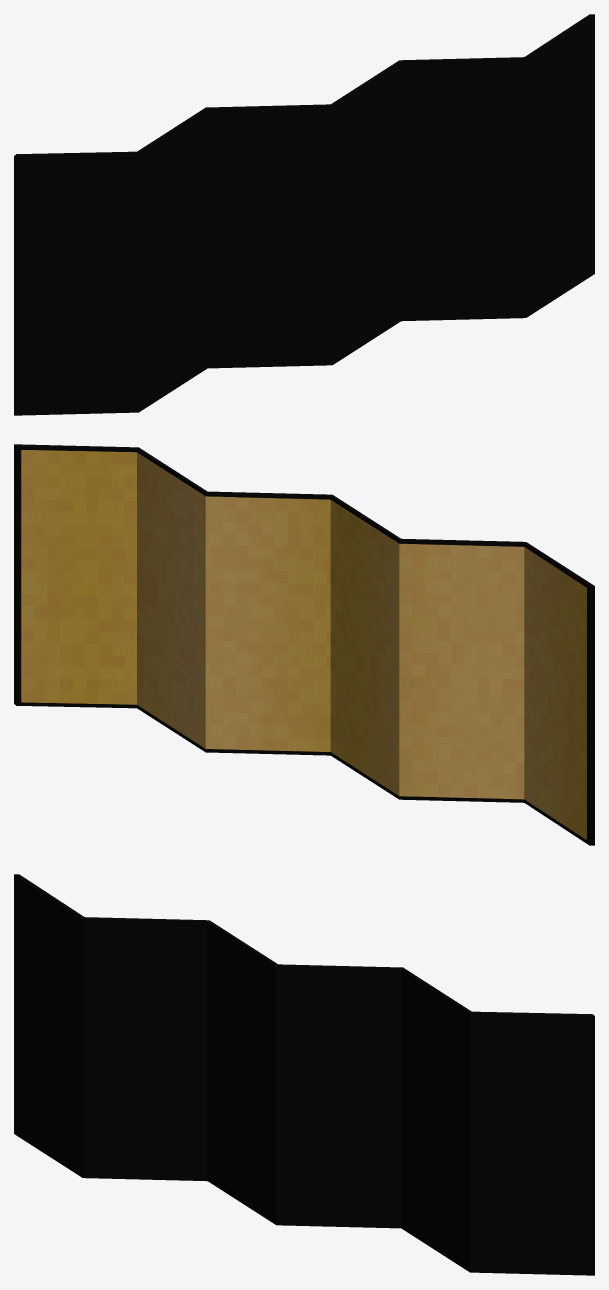
The model's file is byoubu.fbx.
The picture shows the model from 3 angles, top to bottom: view 1: azimuth 30°, elevation 25°; view 2: azimuth 150°, elevation 25°; view 3: azimuth 330°, elevation 25°; orthographic projection.
Parts seen in each view (by area): view 1: byoubu; view 2: byoubu; view 3: byoubu.
Boxes of the visible parts, left/top/right/bottom form: byoubu: left=14, top=14, right=594, bottom=415; byoubu: left=14, top=444, right=594, bottom=845; byoubu: left=14, top=874, right=594, bottom=1275.
Size of the model in its own units: 3.6 by 1.54 by 0.3209.
